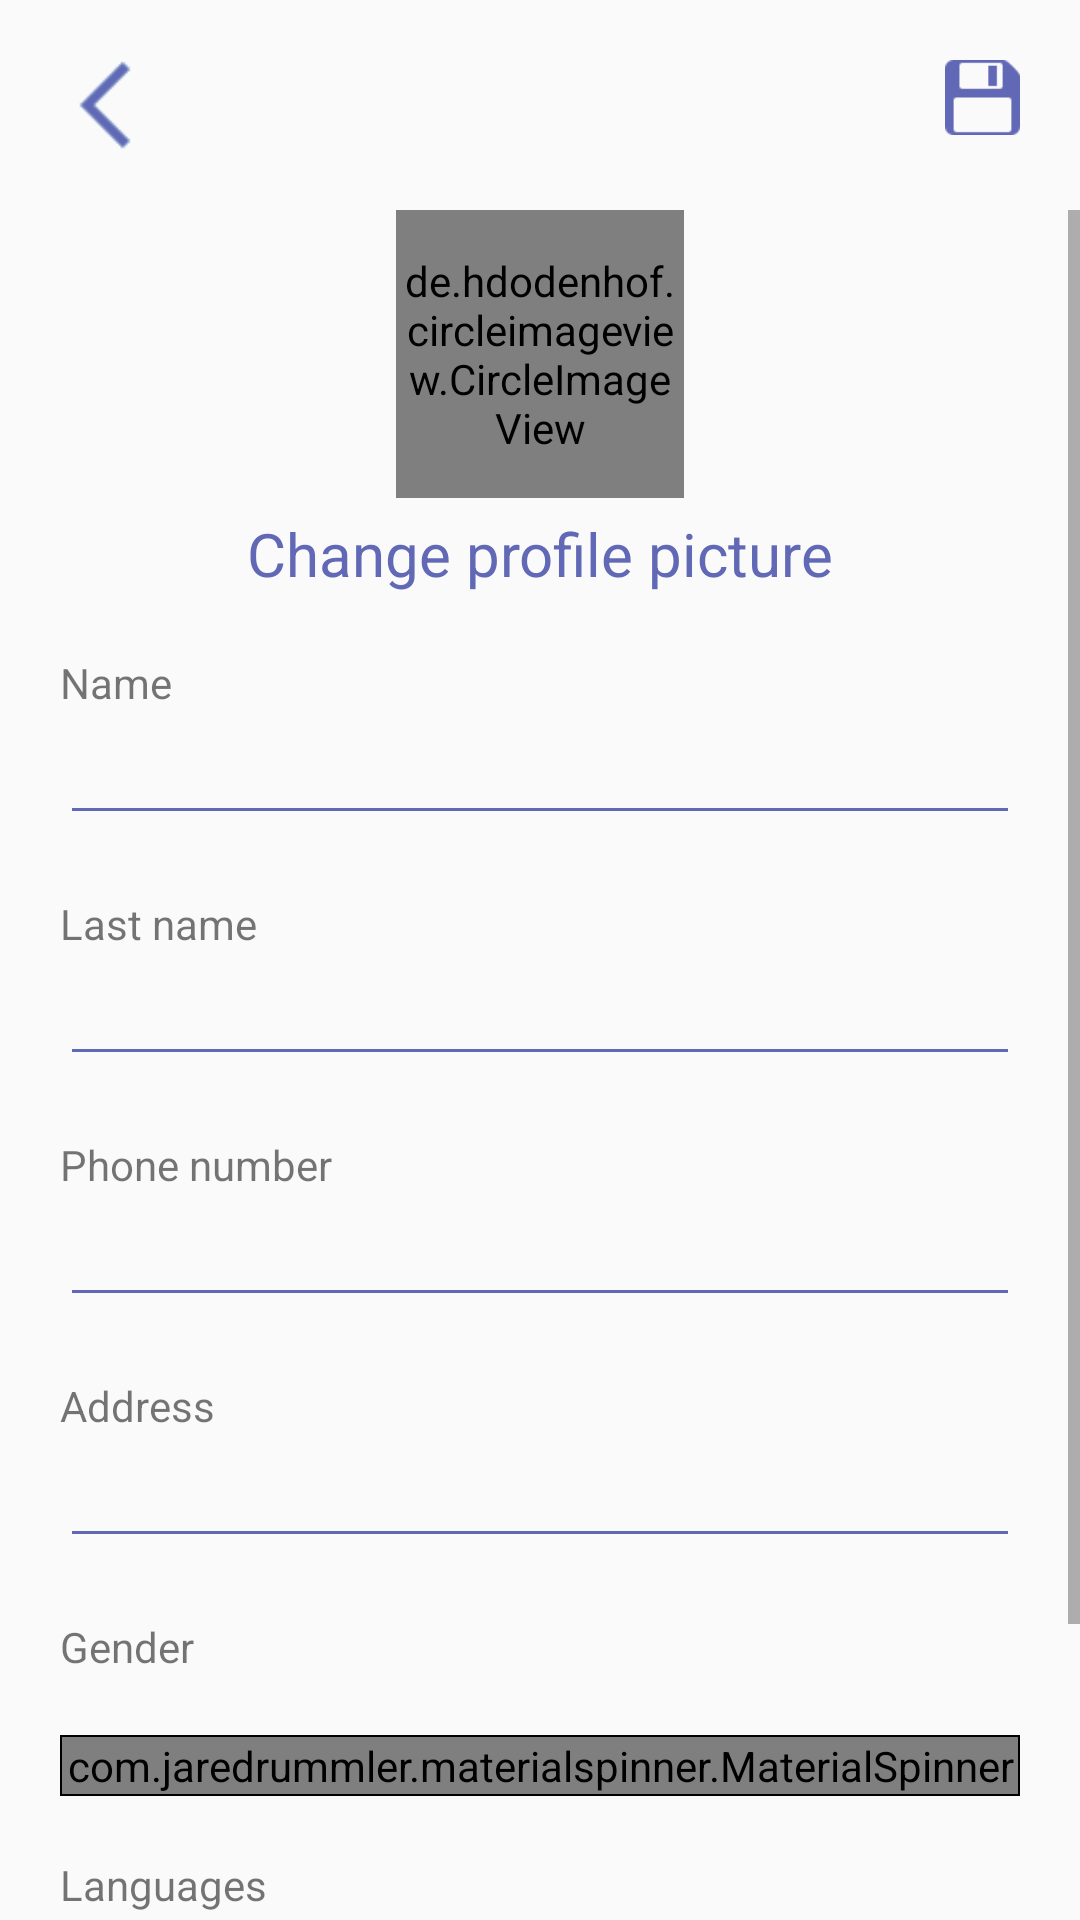

Screen size 1080×1920. Icon name, then its center in pixels as (x=x, y=y):
back: (x=105, y=105)
save: (x=982, y=97)
